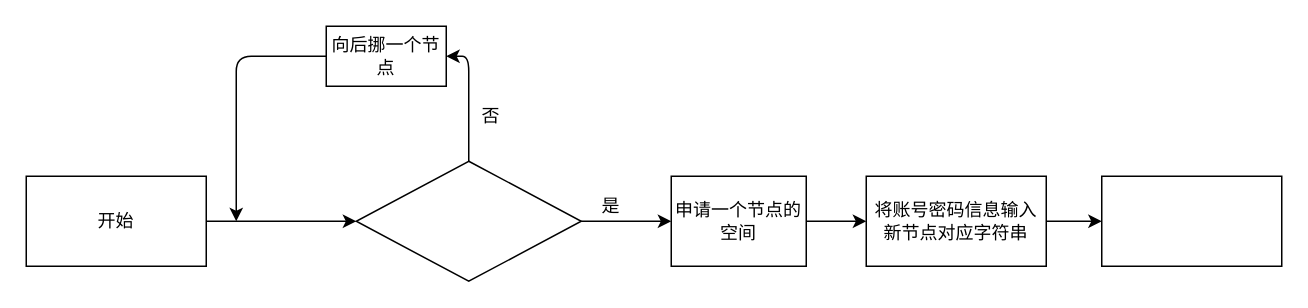
Some shapes in this 1308 by 308 pixel diagram are drawn without their labels. Each missing label, with the box of its shape:
将账号密码信息输入文件，并符合定义形式: (1100, 175, 1282, 266)
当前节点是否为链表的最后一个节点: (355, 160, 581, 281)
